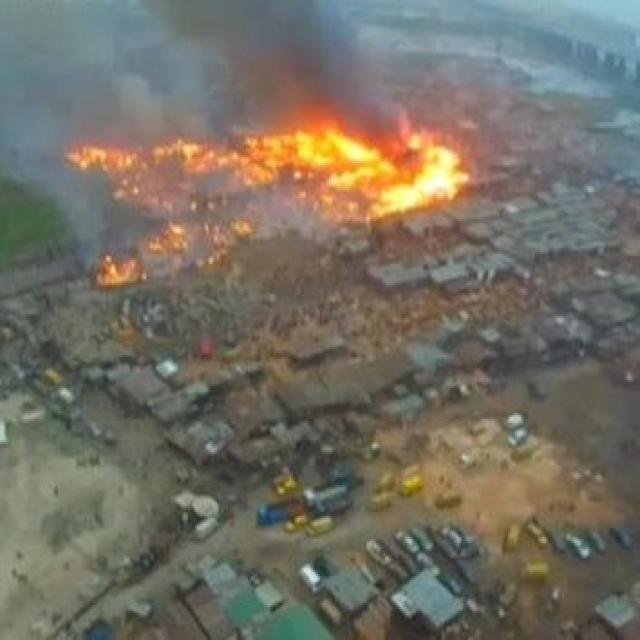Fire: (138, 120, 465, 273)
Smoke: (1, 0, 431, 167)
